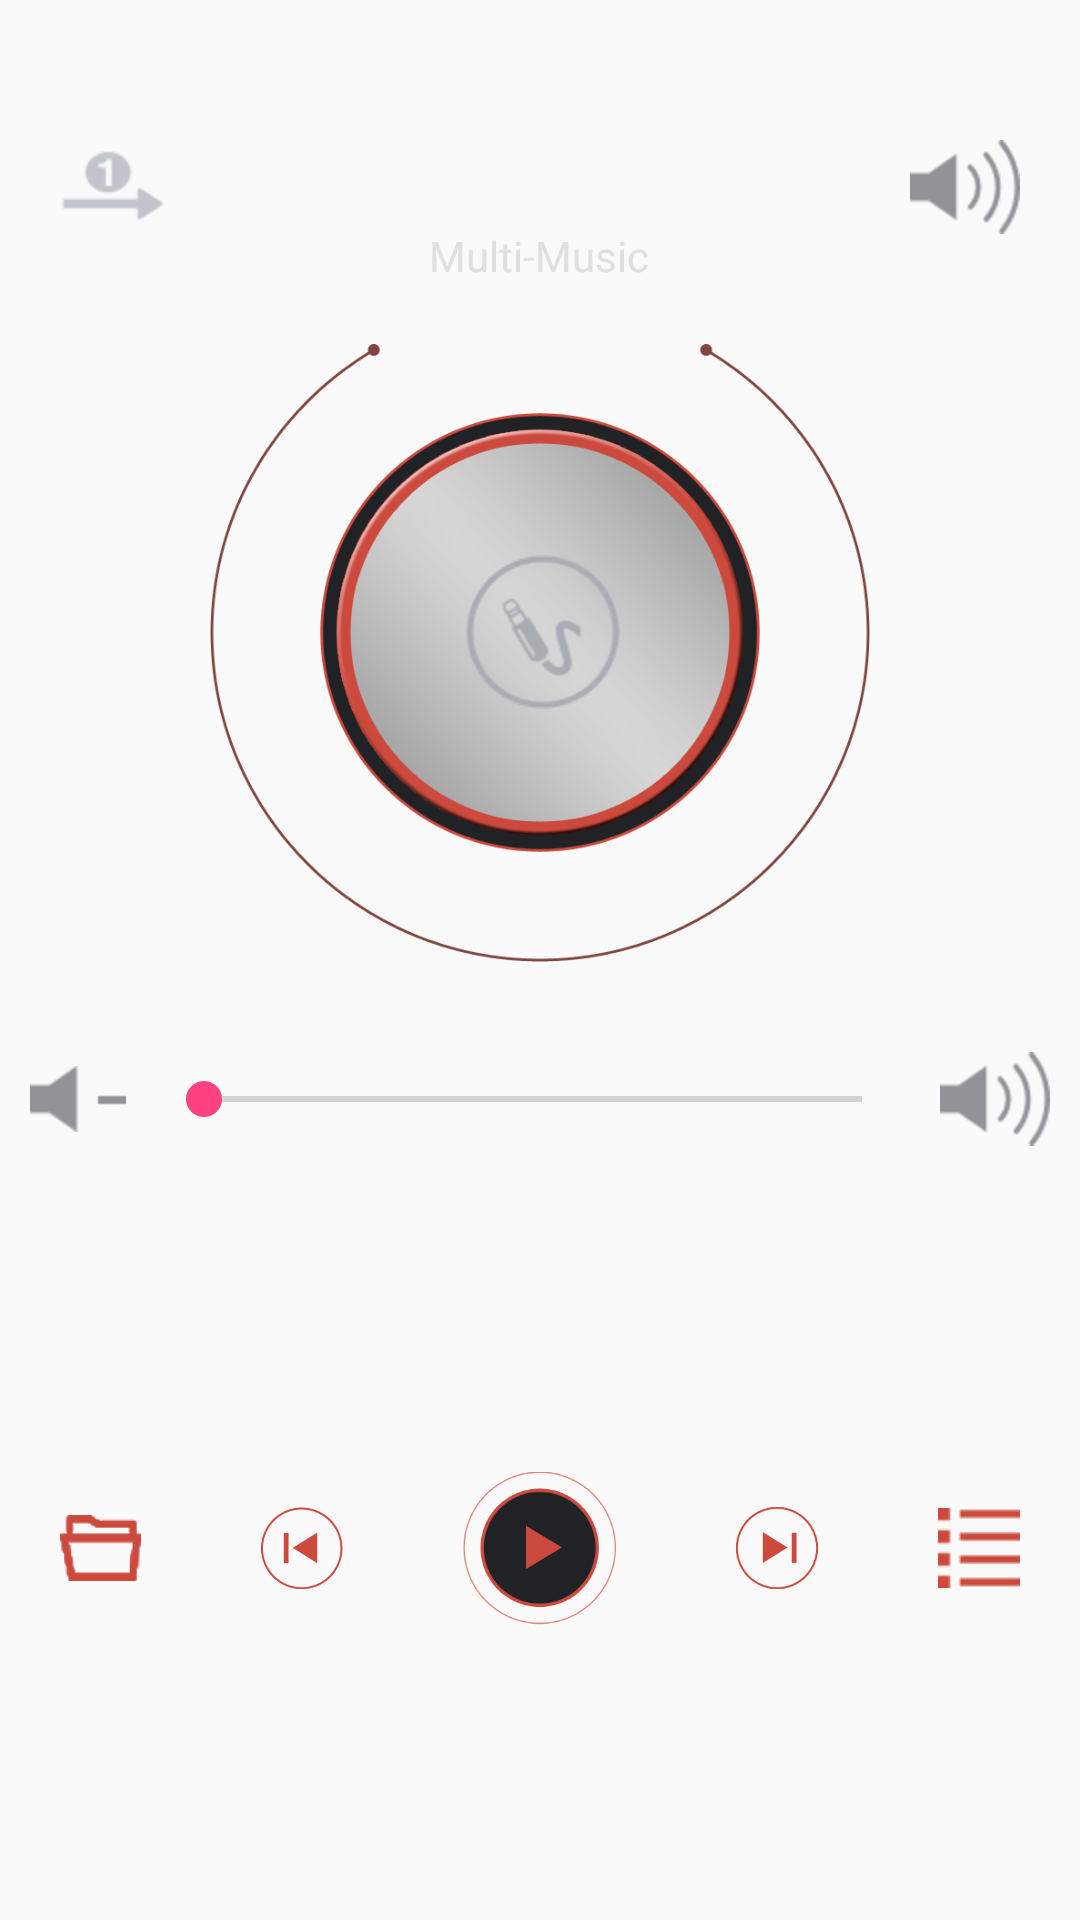

Named icons in this screenshot (1080×1920) and their bounding boxes, (x1, y1, x2, y2):
playbar playlist: (938, 1508, 1020, 1588)
player next: (736, 1507, 818, 1589)
player play: (463, 1472, 616, 1625)
player previous: (261, 1507, 343, 1589)
playlist folder: (60, 1515, 141, 1581)
playmode one only: (63, 152, 162, 219)
source aux: (423, 512, 663, 752)
volume: (910, 140, 1020, 234), (940, 1052, 1050, 1146), (30, 1066, 126, 1132)
